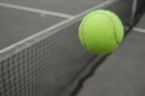tennis ball: (76, 9, 127, 54)
